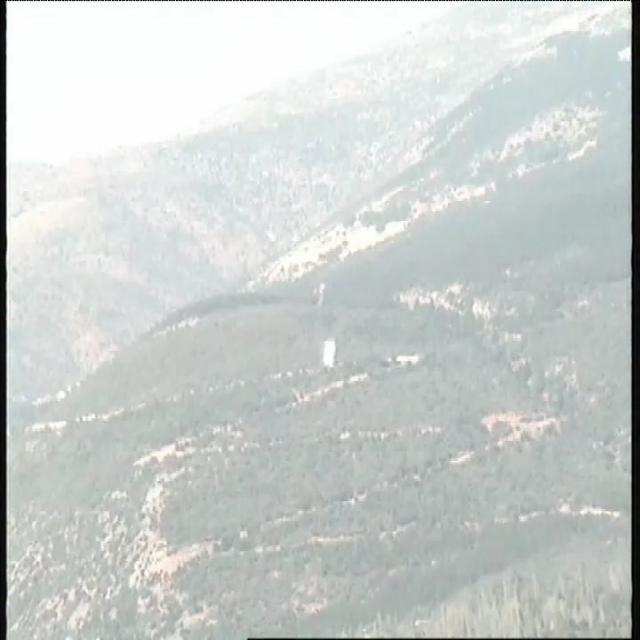smoke: (319, 336, 342, 367)
